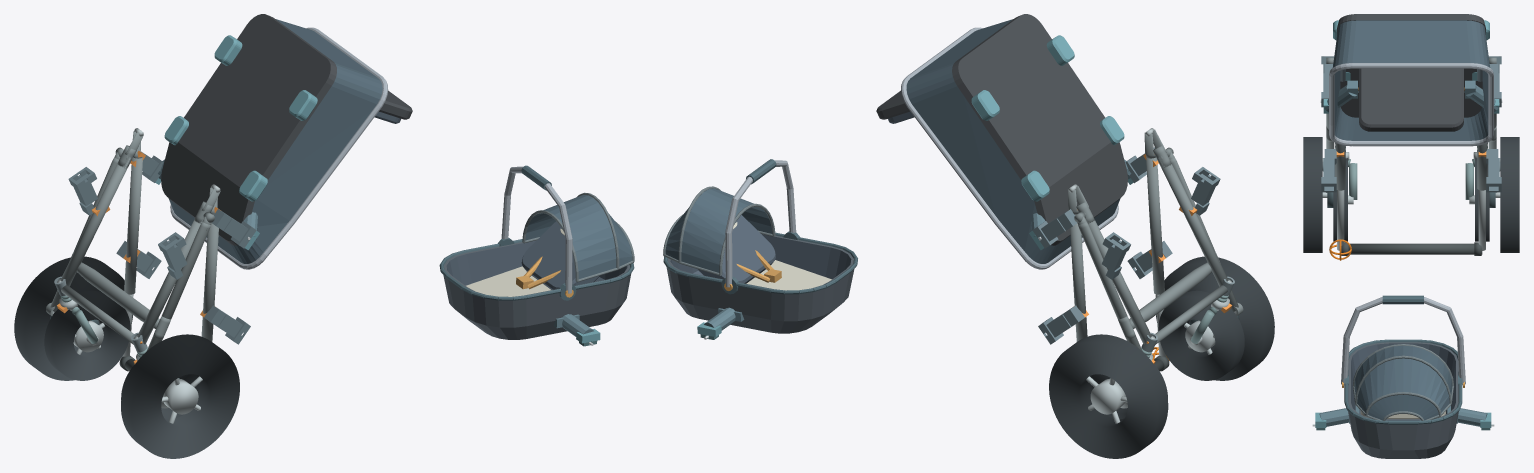
File: D22_w550_state3_wheel_L.glb
3 renders of one model, left to right at view 1: azimuth 30°, elevation 25°; view 2: azimuth 150°, elevation 25°; view 3: azimuth 270°, elevation 25°, orthographic. The views are drawn at different scales.
Visible parts, largest first — view 1: D22_Lower, D22_Upper, RL_tire.004, FR_tire.004, RR_tire.004, main_upper_1.005, main_lower_1.005, V46_rearbar.005, main_upper_-1.005, V46_rear_leg_-1.005, main_lower_-1.005, RL_sealed_hub.004 (+6 smaller); view 2: D22_Lower, D22_Upper, RR_tire.004, FL_tire.004, RL_tire.004, main_upper_-1.005, main_lower_-1.005, V46_rearbar.005, main_upper_1.005, V46_rear_leg_1.005, main_lower_1.005, RR_sealed_hub.004 (+6 smaller); view 3: D22_Lower, D22_Upper, RL_tire.004, RR_tire.004, round_handle.004, D22_Upper_Mount_H, D22_Lower_Mount_M, Universal_Cabin_Receiver_H_1, Universal_Cabin_Receiver_H_-1, FR_tire.004, FL_tire.004, handle_slider_1.004 (+8 smaller).
Part boxes in pixels (x1,y1,x2,y2): D22_Lower: (161,14,412,269); D22_Upper: (439,165,634,339); RL_tire.004: (121,334,239,458); FR_tire.004: (44,290,130,380); RR_tire.004: (14,256,132,380); main_upper_1.005: (124,157,142,294); main_lower_1.005: (60,157,130,286); V46_rearbar.005: (77,262,159,328); main_upper_-1.005: (201,214,218,341); V46_rear_leg_-1.005: (146,222,210,351); main_lower_-1.005: (137,219,203,344); RL_sealed_hub.004: (163,379,198,414); D22_Lower: (876,14,1127,269); D22_Upper: (663,159,857,333); RR_tire.004: (1049,334,1168,458); FL_tire.004: (1158,290,1244,380); RL_tire.004: (1156,256,1274,380); main_upper_-1.005: (1146,157,1164,294); main_lower_-1.005: (1158,157,1228,286); V46_rearbar.005: (1129,262,1211,328); main_upper_1.005: (1070,214,1087,341); V46_rear_leg_1.005: (1078,221,1142,351); main_lower_1.005: (1086,220,1151,344); RR_sealed_hub.004: (1090,379,1125,414); D22_Lower: (1329,14,1493,146); D22_Upper: (1341,295,1465,458); RL_tire.004: (1303,137,1322,252); RR_tire.004: (1500,137,1519,252); round_handle.004: (1348,243,1482,254); D22_Upper_Mount_H: (1312,405,1494,430); D22_Lower_Mount_M: (1320,80,1502,113); Universal_Cabin_Receiver_H_1: (1486,149,1501,192); Universal_Cabin_Receiver_H_-1: (1321,149,1336,192); FR_tire.004: (1475,158,1489,241); FL_tire.004: (1333,158,1347,241); handle_slider_1.004: (1478,190,1485,250).
Size of the model in its own units: 1.8 by 1.06 by 0.671.
